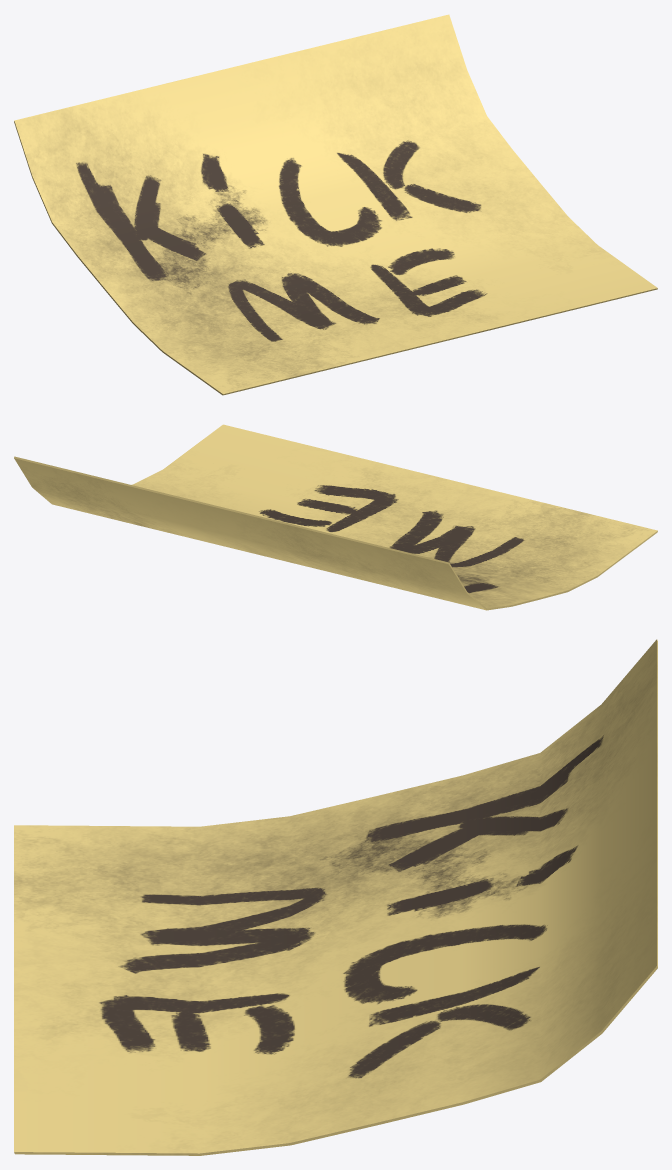
File: Kick Me Sign.fbx
The picture shows the model from 3 angles, top to bottom: view 1: azimuth 30°, elevation 25°; view 2: azimuth 150°, elevation 25°; view 3: azimuth 270°, elevation 25°; orthographic projection. The views are drawn at different scales.
Parts seen in each view (by area): view 1: Plane; view 2: Plane; view 3: Plane.
Boxes of the visible parts, x1,y1,x2,y2 form: Plane: (14,14,657,395); Plane: (14,424,657,610); Plane: (14,639,657,1155).
Size of the model in its own units: 200 by 54.25 by 167.
1 material, 1 textured.
